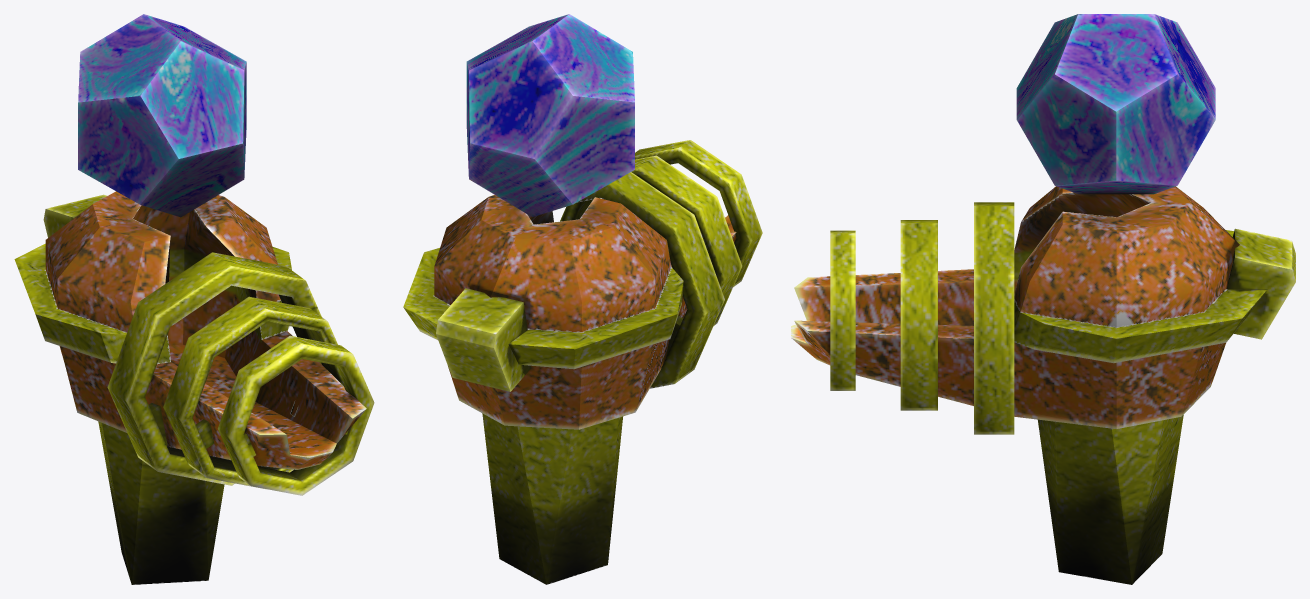
File: EctoLOD3Top.fbx
3 renders of one model, left to right at view 1: azimuth 30°, elevation 25°; view 2: azimuth 150°, elevation 25°; view 3: azimuth 270°, elevation 25°, orthographic. The views are drawn at different scales.
Parts seen in each view (by area): view 1: polySurface1815; view 2: polySurface1815; view 3: polySurface1815.
Boxes of the visible parts, x1,y1,x2,y2 form: polySurface1815: (14, 14, 374, 584); polySurface1815: (403, 14, 762, 584); polySurface1815: (791, 14, 1295, 584).
Bounding box in the file's own units: 2.31 × 4.67 × 3.89.
1 material, 1 textured.
